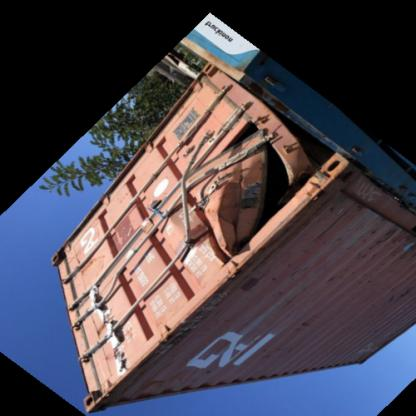Damage: (83, 102, 337, 318)
